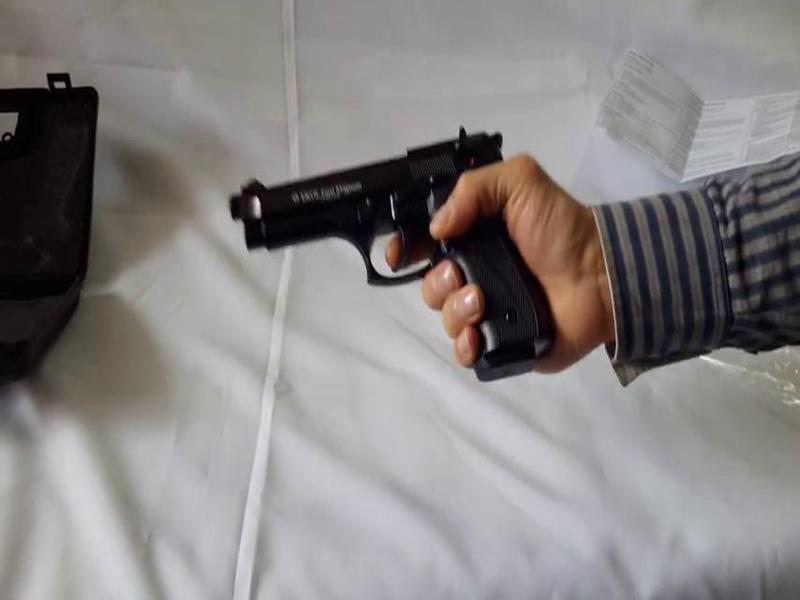Pistola: (198, 118, 566, 397)
